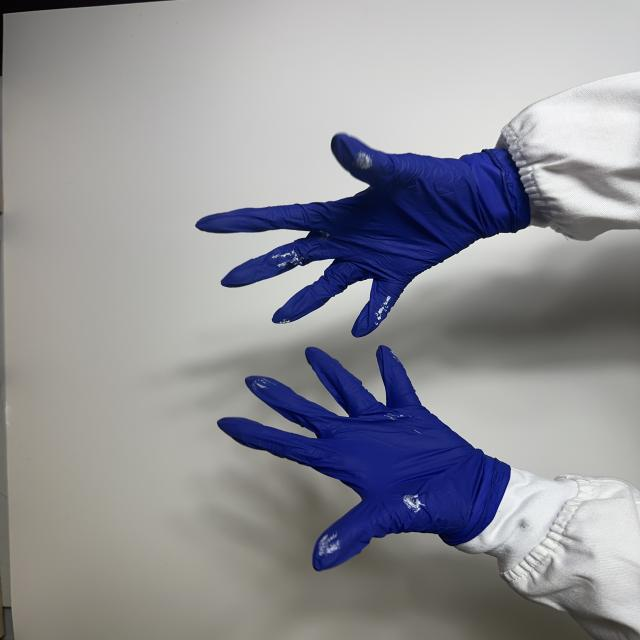gloves_contaminated: (197, 135, 530, 337), (218, 346, 511, 570)
